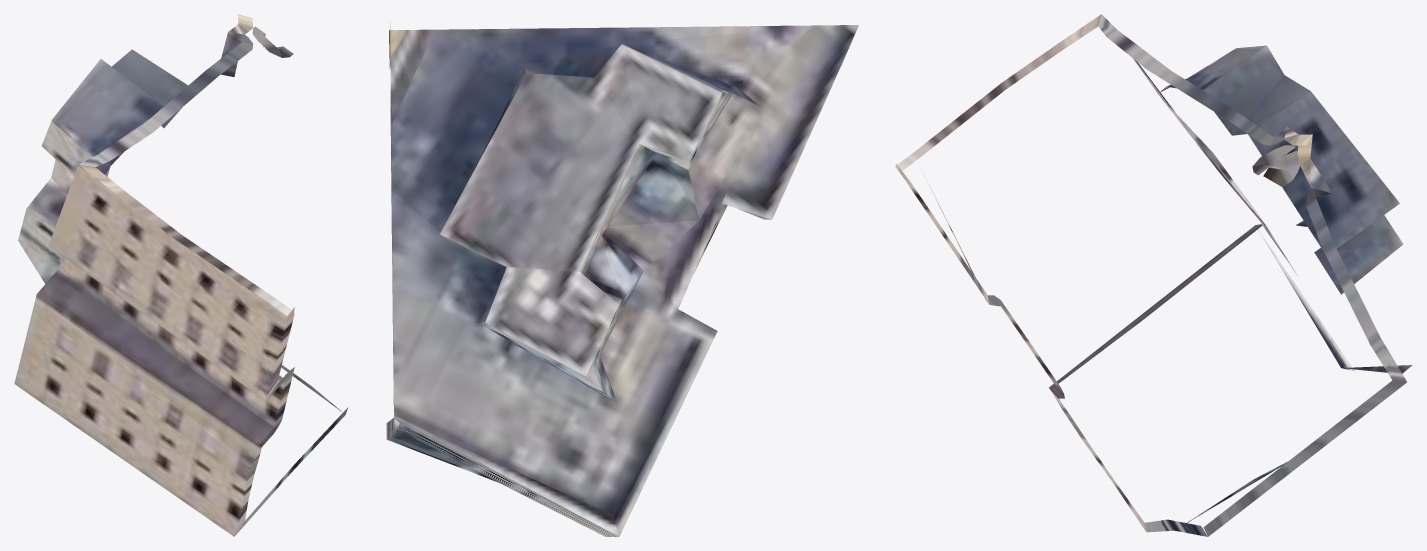
3 views of the same model, side by side, from view 1: azimuth 30°, elevation 25°; view 2: azimuth 150°, elevation 25°; view 3: azimuth 270°, elevation 25° (orthographic). The views are drawn at different scales.
Bounding box in the file's own units: 26.13 × 34.93 × 36.33.
Materials: 1 (1 with a texture image).
